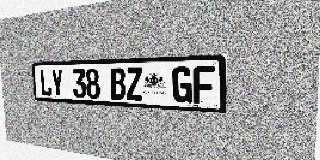3: (72, 69, 86, 98)
8: (85, 68, 100, 99)
B: (110, 68, 126, 100)
F: (193, 66, 215, 104)
G: (172, 66, 192, 103)
L: (39, 69, 52, 96)
Y: (51, 69, 64, 97)
Z: (126, 67, 143, 101)
